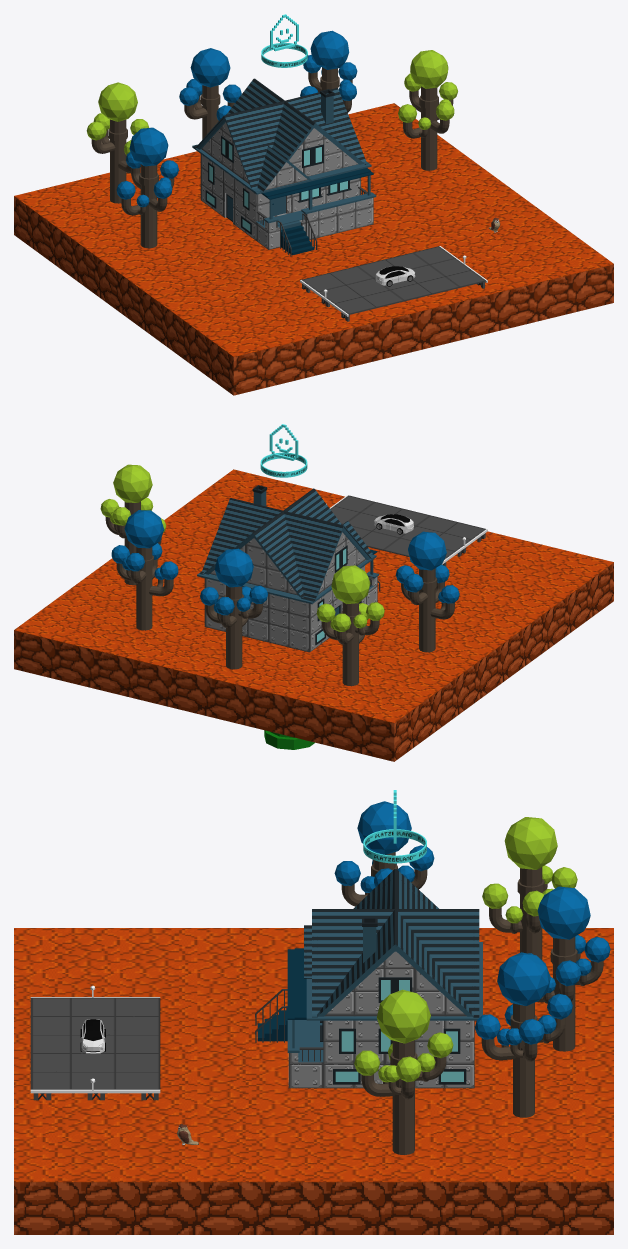
3 views of the same model, one above another, from view 1: azimuth 30°, elevation 25°; view 2: azimuth 150°, elevation 25°; view 3: azimuth 270°, elevation 25° (orthographic). The views are drawn at different scales.
Parts seen in each view (by area): view 1: Cube.001, Cube.078, TYPE_PREMIUM, VEHICLES_TESLA; view 2: Cube.001, Cube.078, TYPE_PREMIUM, VEHICLES_TESLA, UNDERGROUND_PIPES; view 3: Cube.001, Cube.078, TYPE_PREMIUM, VEHICLES_TESLA.
Boxes of the visible parts, x1,y1,x2,y2 form: Cube.001: [14, 30, 613, 395]; Cube.078: [192, 78, 376, 256]; TYPE_PREMIUM: [261, 14, 307, 67]; VEHICLES_TESLA: [375, 266, 415, 286]; Cube.001: [14, 464, 613, 761]; Cube.078: [197, 485, 380, 652]; TYPE_PREMIUM: [260, 424, 307, 477]; VEHICLES_TESLA: [374, 514, 413, 534]; UNDERGROUND_PIPES: [264, 730, 314, 749]; Cube.001: [14, 801, 613, 1234]; Cube.078: [255, 869, 482, 1088]; TYPE_PREMIUM: [363, 790, 426, 863]; VEHICLES_TESLA: [80, 1019, 105, 1053].
Size of the model in its own units: 4000 by 2993 by 4000.
30 materials, 7 textured.
